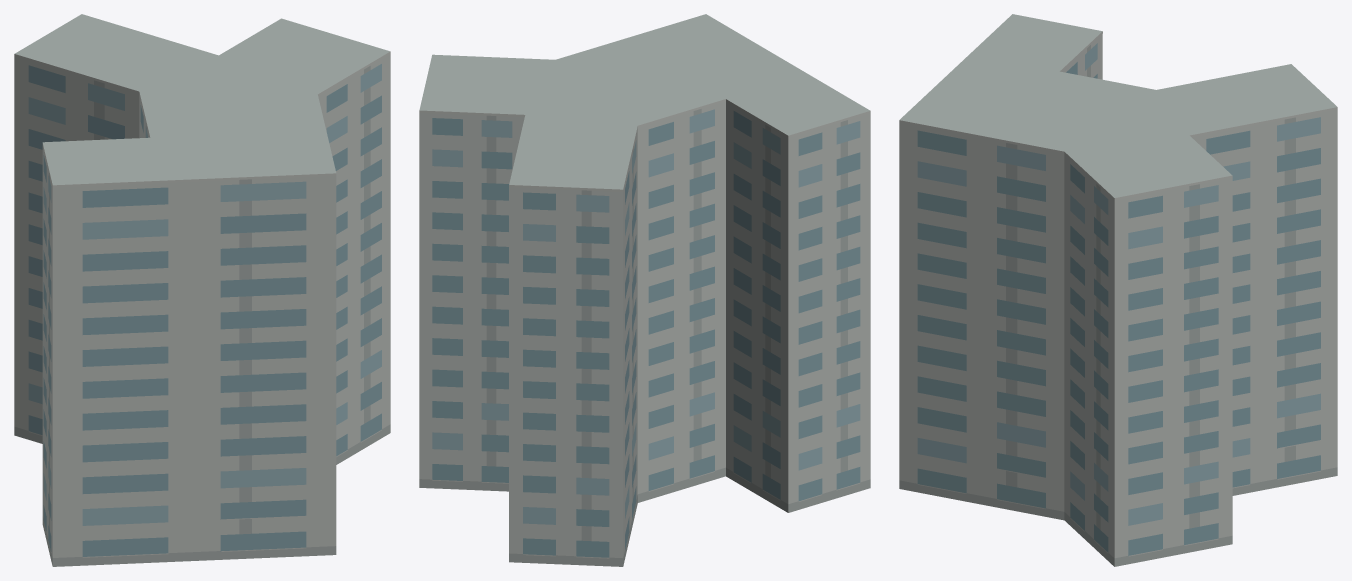
The model's file is residential-ad6d3774-f2c8-445d-8db0-4c36ce090ea9.glb.
3 views of the same model, side by side, from view 1: azimuth 30°, elevation 25°; view 2: azimuth 150°, elevation 25°; view 3: azimuth 270°, elevation 25° (orthographic). The views are drawn at different scales.
Parts seen in each view (by area): view 1: residential-ad6d3774-f2c8-445d-8db0-4c36ce090ea9.tmp; view 2: residential-ad6d3774-f2c8-445d-8db0-4c36ce090ea9.tmp; view 3: residential-ad6d3774-f2c8-445d-8db0-4c36ce090ea9.tmp.
Part boxes in pixels (left/top/right/bottom): residential-ad6d3774-f2c8-445d-8db0-4c36ce090ea9.tmp: left=14, top=14, right=390, bottom=566; residential-ad6d3774-f2c8-445d-8db0-4c36ce090ea9.tmp: left=419, top=14, right=870, bottom=566; residential-ad6d3774-f2c8-445d-8db0-4c36ce090ea9.tmp: left=899, top=14, right=1337, bottom=566.
Size of the model in its own units: 41.78 by 39 by 42.05.
